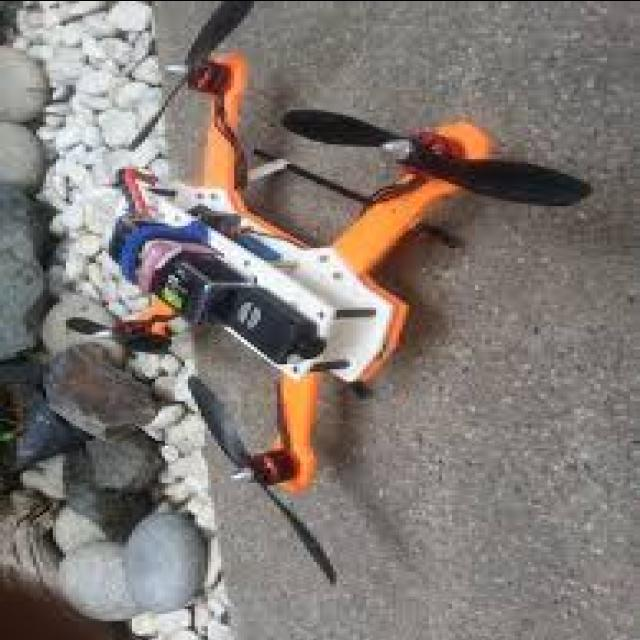drone: (72, 0, 554, 556)
